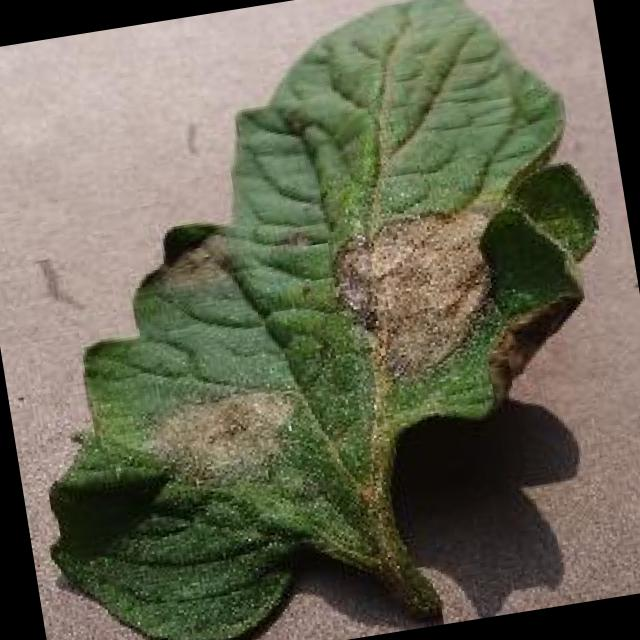Tomato_Late_Blight: (316, 137, 600, 417), (114, 356, 328, 494), (124, 198, 254, 313)
